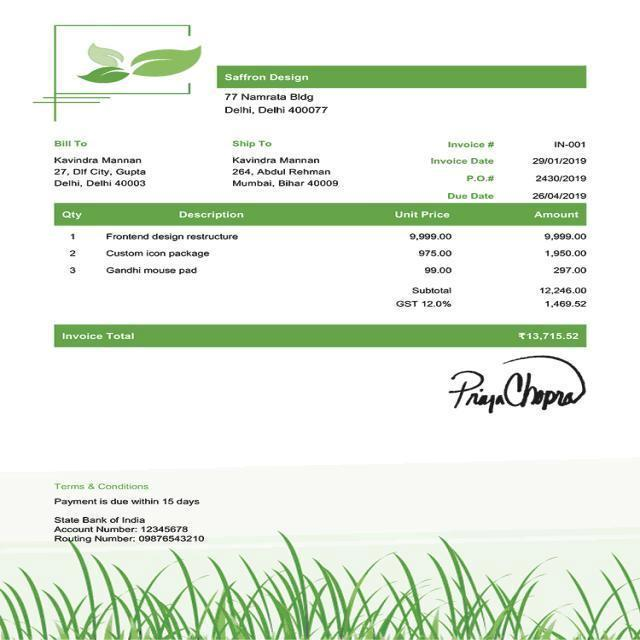ROI: (57, 201, 592, 310), (418, 136, 598, 206), (53, 475, 213, 548), (58, 329, 582, 349), (442, 352, 589, 423), (50, 137, 163, 193), (223, 71, 363, 116)
